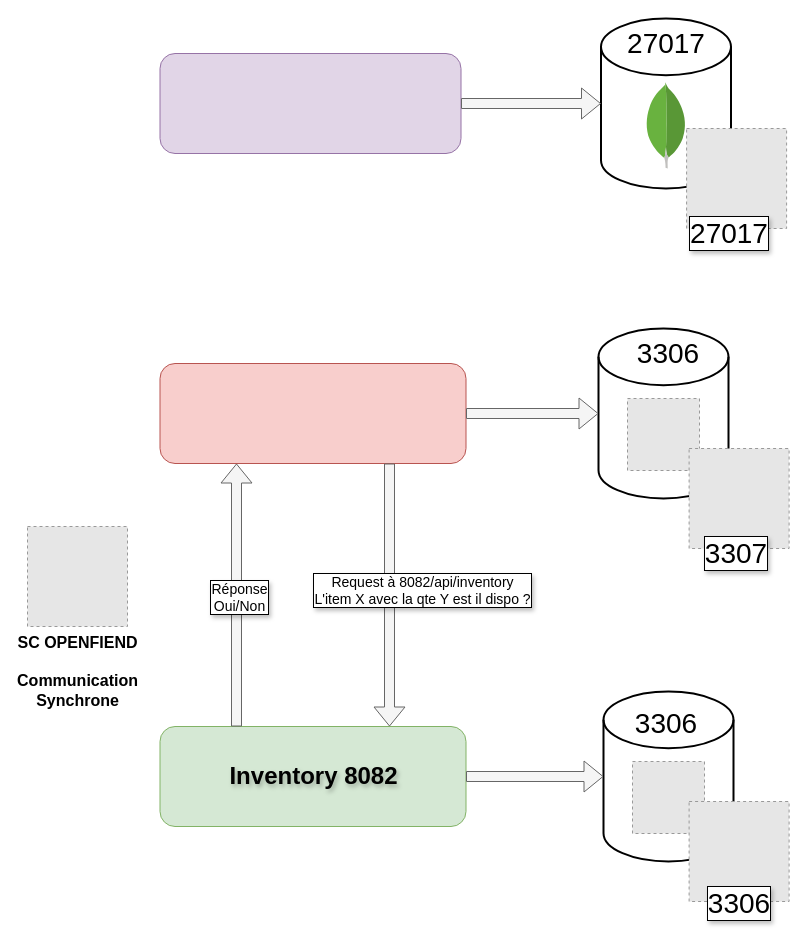
Image size: 807x938. Some labels were removed from this diagram. Grey dashed boxes stand in for pictures. Here are the shapes that lost their labels. From the top down, the box of each, then its label:
(159, 52, 461, 154): Product 8080
(159, 362, 466, 464): Order 8081
